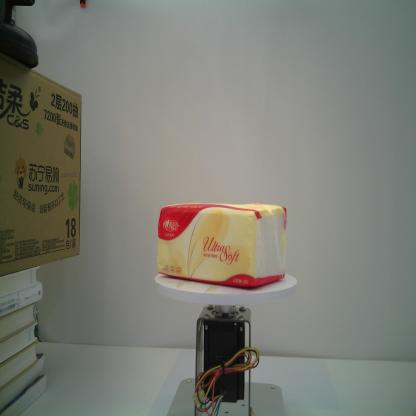Tissue: (156, 201, 288, 288)
